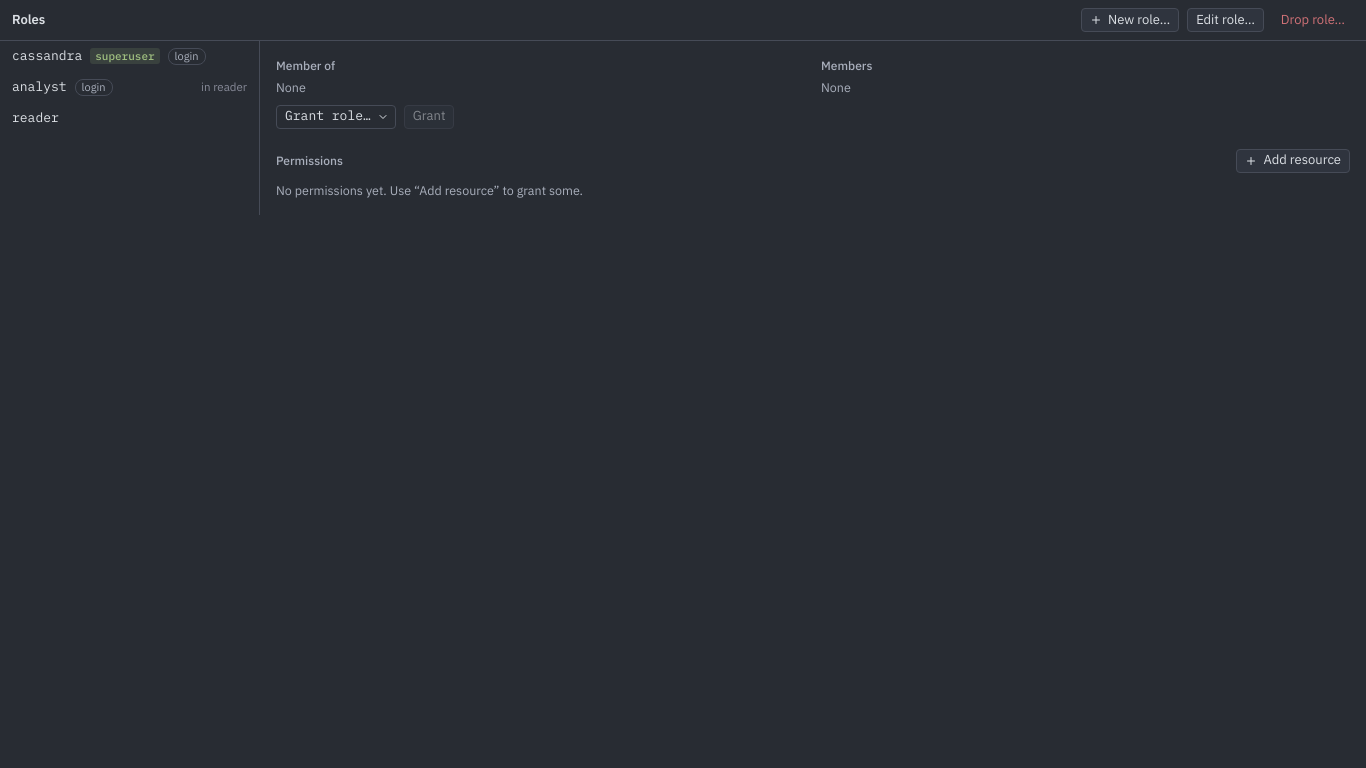
Test: SecurityView › lists roles and opens the new-role dialog
expect the button "analyst login in reader" is shown: met, box x1=0 y1=72 x2=259 y2=103
Click the button "New role…": (1130, 20) x1=1081 y1=8 x2=1179 y2=32
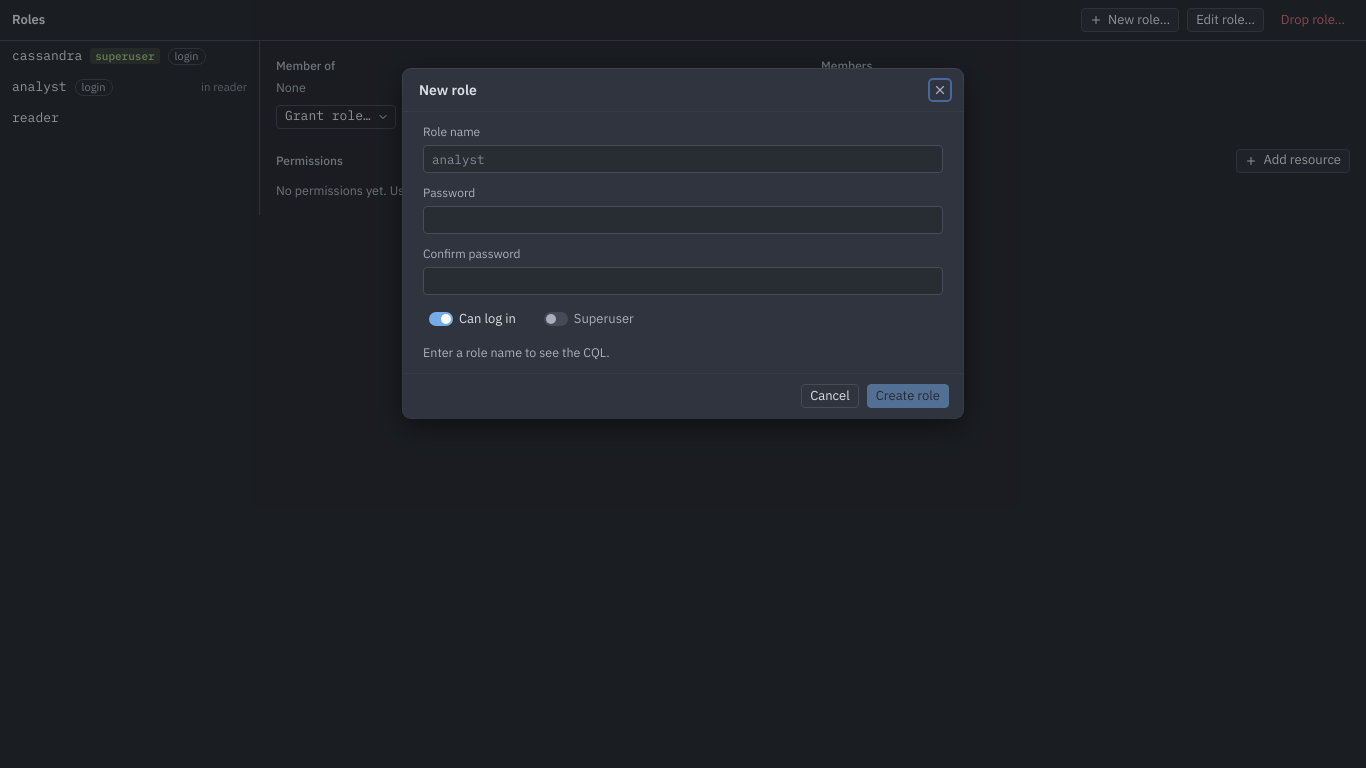
expect the dialog "New role" is shown: met, box x1=403 y1=69 x2=963 y2=418
